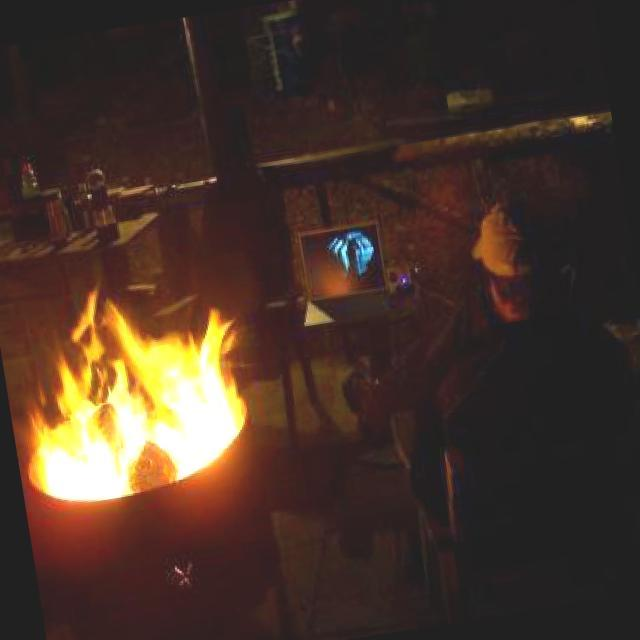Fire: (12, 272, 267, 530)
